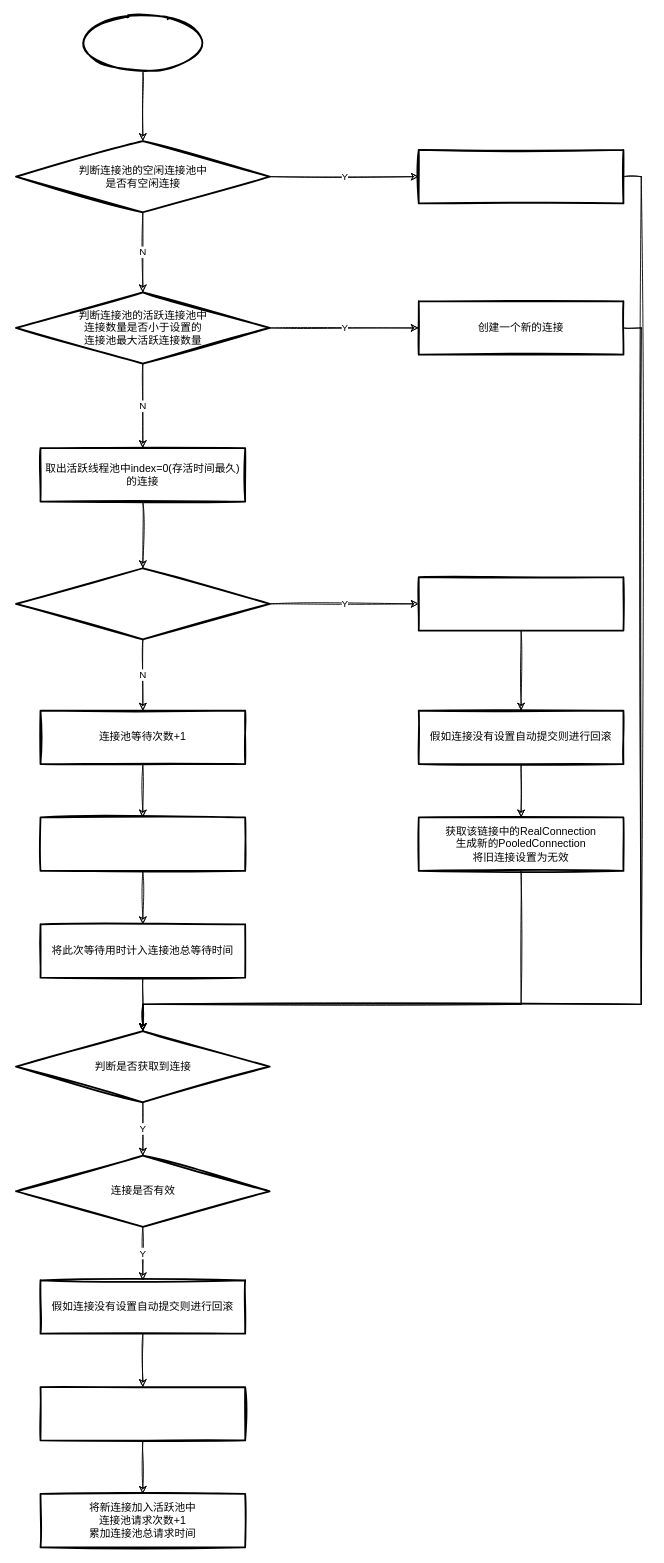
The diagram is 664 pixels wide and 1563 high, and some of its shapes have lost their labels. Here are the shapes that lost their labels. From the top down, the centre of each, then its label:
At point 142,42: "getConnection".
At point 520,176: "从空闲池中取出一个空闲连接".
At point 142,603: "判断该连接的检查时间是否过长".
At point 520,603: "连接池过期连接数量+1 连接池累加 过期连接的总检查时间 连接池累加 总检查时间 从连接池的活跃池中移除该连接".
At point 142,843: "等待poolTimeToWait毫秒".
At point 142,1413: "设置连接的类型码 设置连接的检查时间戳 设置连接的最近使用时间戳".
